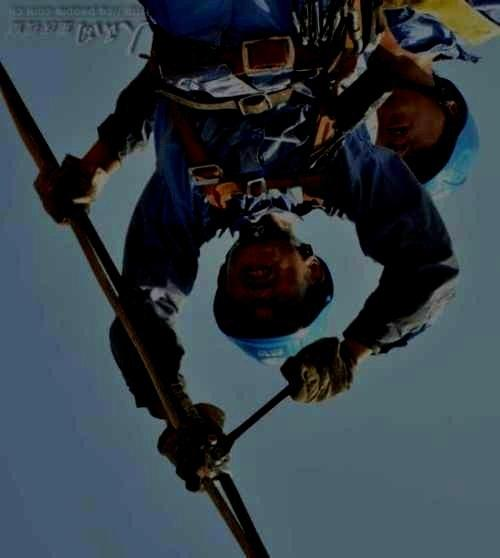helmet: (212, 226, 337, 369), (375, 75, 482, 209)
